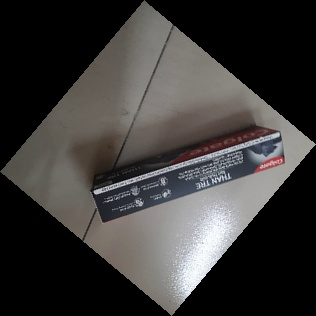Colgate Than: (89, 124, 286, 224)
